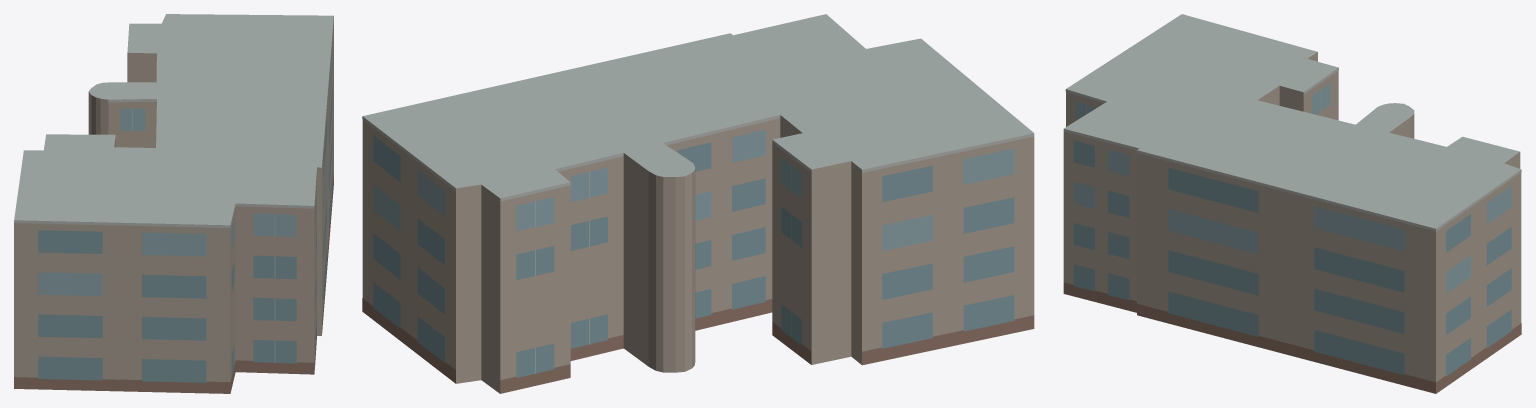
The model's file is survey-upis-32978472.glb.
3 renders of one model, left to right at view 1: azimuth 30°, elevation 25°; view 2: azimuth 150°, elevation 25°; view 3: azimuth 270°, elevation 25°, orthographic. The views are drawn at different scales.
Visible parts, largest first — view 1: survey-upis-32978472.tmp; view 2: survey-upis-32978472.tmp; view 3: survey-upis-32978472.tmp.
Boxes of the visible parts, bbox=[...] form: survey-upis-32978472.tmp: bbox=[14, 14, 333, 393]; survey-upis-32978472.tmp: bbox=[362, 14, 1034, 393]; survey-upis-32978472.tmp: bbox=[1063, 14, 1521, 393].
Bounding box in the file's own units: 41.02 × 14.7 × 36.96.
